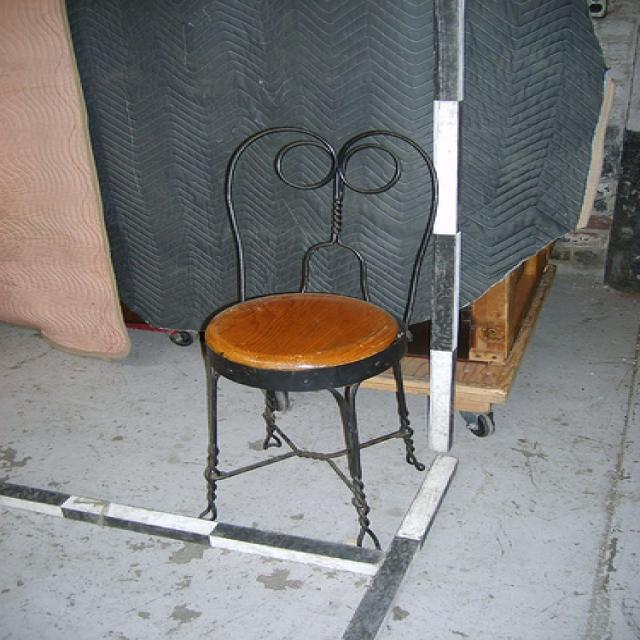chair: (201, 124, 440, 558)
